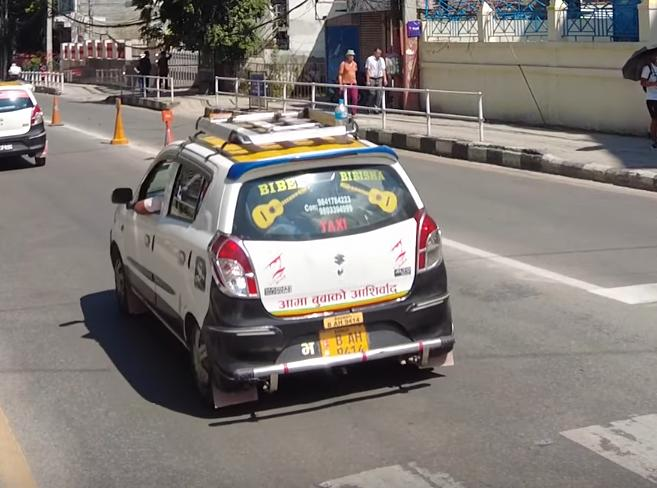taxi: (98, 97, 468, 409), (0, 78, 52, 173)
